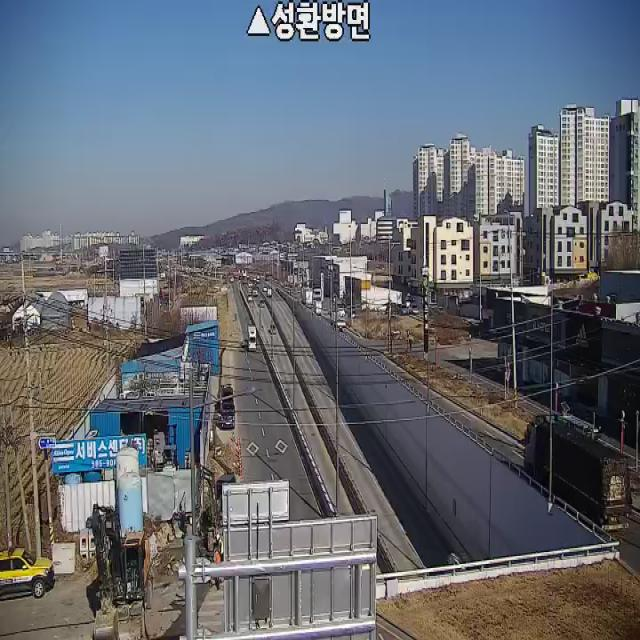Car: (0, 546, 55, 601), (222, 385, 235, 429), (270, 325, 276, 334), (259, 299, 265, 308), (267, 289, 272, 297), (248, 293, 252, 302), (263, 286, 267, 291)
Truck: (525, 415, 632, 530), (248, 326, 256, 351)
